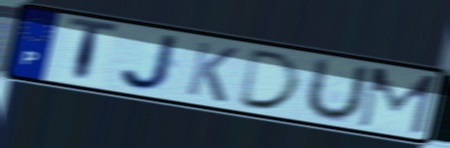D: (234, 47, 304, 113)
J: (118, 32, 184, 93)
K: (182, 39, 241, 105)
M: (354, 65, 440, 137)
T: (66, 15, 122, 88)
U: (300, 55, 373, 124)
